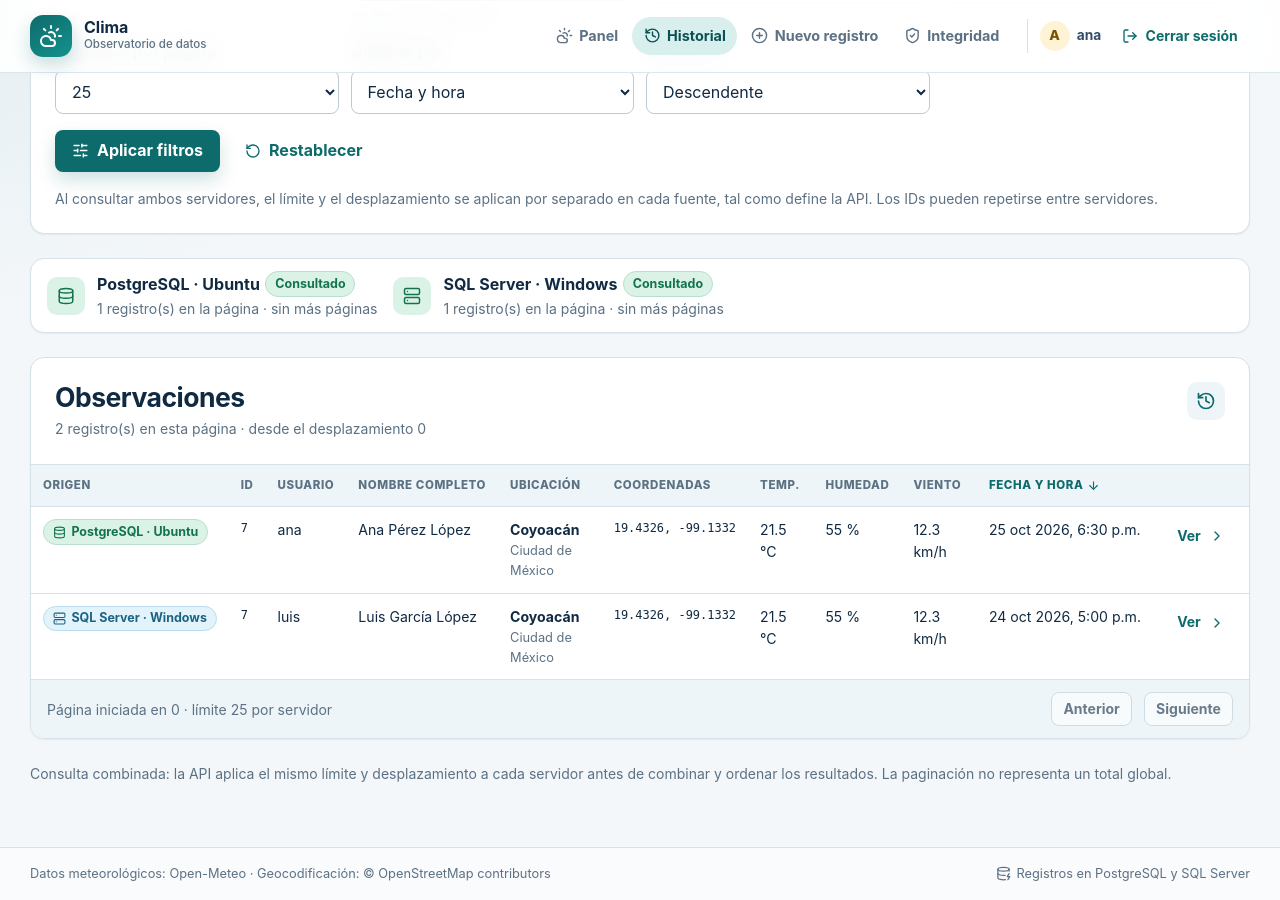
Test: historial de registros › abre el detalle por ID y servidor
The image size is (1280, 900).
(page scrolled)
Expected: the cell "ana" is shown, [266,507,346,593]
Click the button with aria-label "ver detalle del registro 7 de postgresql". click: (1201, 536)
box: [1165,519,1237,553]
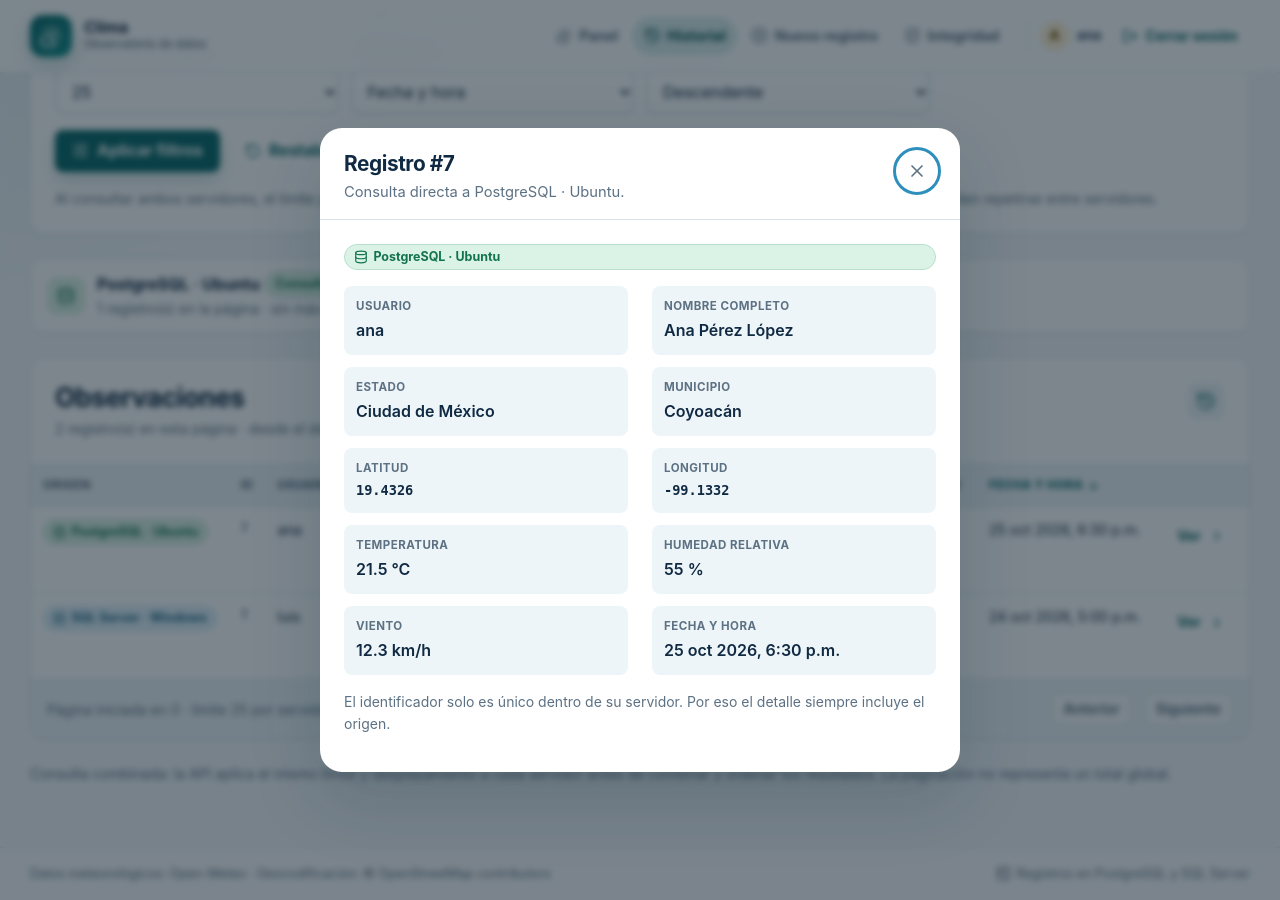
Result: the text "Ana Pérez López" is shown at [664,320,794,340]
Result: the text "19.4326" is shown at [356,482,413,498]
